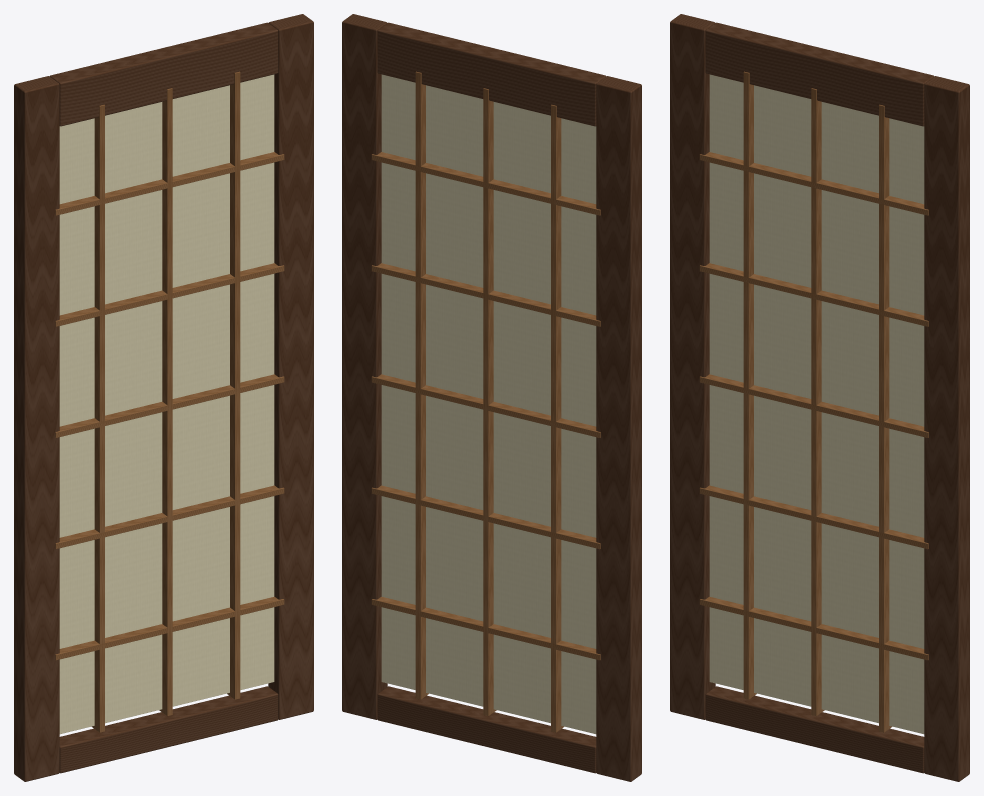
Rendered from shoji.glb.
3 renders of one model, left to right at view 1: azimuth 30°, elevation 25°; view 2: azimuth 150°, elevation 25°; view 3: azimuth 330°, elevation 25°, orthographic.
Visible parts, largest first — view 1: shoji; view 2: shoji; view 3: shoji.
Boxes of the visible parts, x1,y1,x2,y2 form: shoji: (14, 14, 313, 781); shoji: (342, 14, 641, 781); shoji: (670, 14, 969, 781).
Size of the model in its own units: 0.9 by 2.05 by 0.066.
3 materials, 3 textured.
